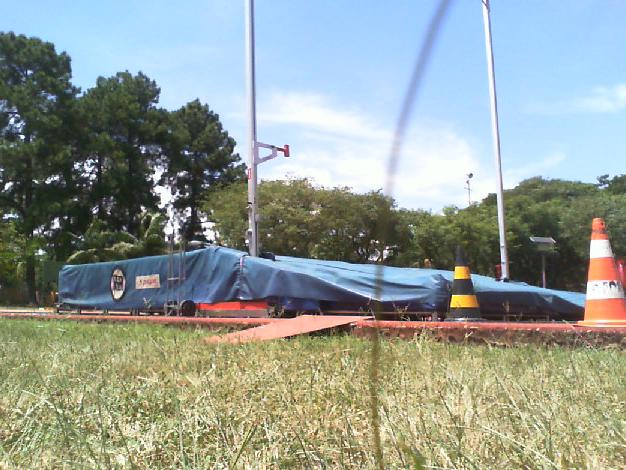0 cone: (573, 218, 626, 328), (444, 244, 484, 322)
